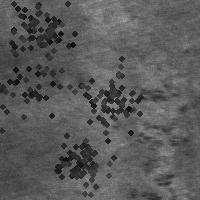rolled-in_scale: (64, 54, 152, 142), (0, 36, 74, 138), (129, 81, 187, 200), (0, 0, 81, 73), (42, 126, 114, 198)
